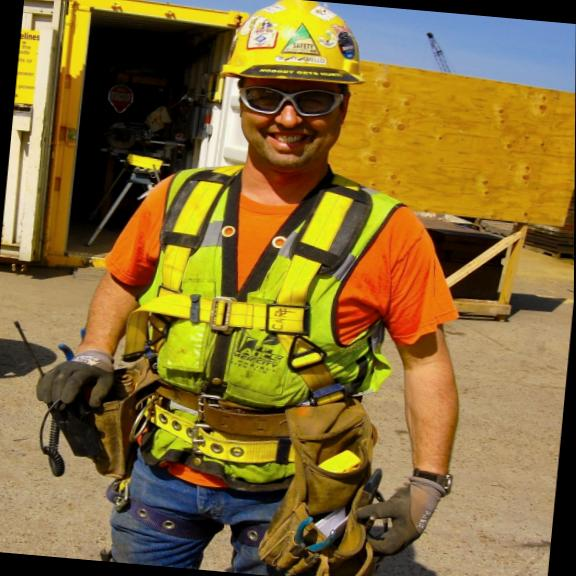safety_vest: (113, 153, 434, 475)
